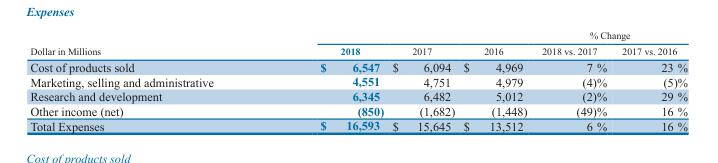table: (29, 29, 687, 132)
table column: (29, 29, 266, 132), (266, 29, 387, 132), (533, 29, 613, 132), (458, 29, 533, 132), (613, 29, 687, 132), (387, 29, 458, 132)
table column header: (29, 29, 687, 58)
table row: (29, 42, 687, 58), (29, 58, 687, 73), (29, 73, 687, 88), (29, 88, 687, 103), (29, 103, 687, 118), (29, 118, 687, 132), (29, 29, 687, 42)
table spanning cell: (29, 29, 266, 58), (266, 29, 387, 58), (458, 29, 533, 58), (387, 29, 458, 58), (533, 29, 687, 42)
